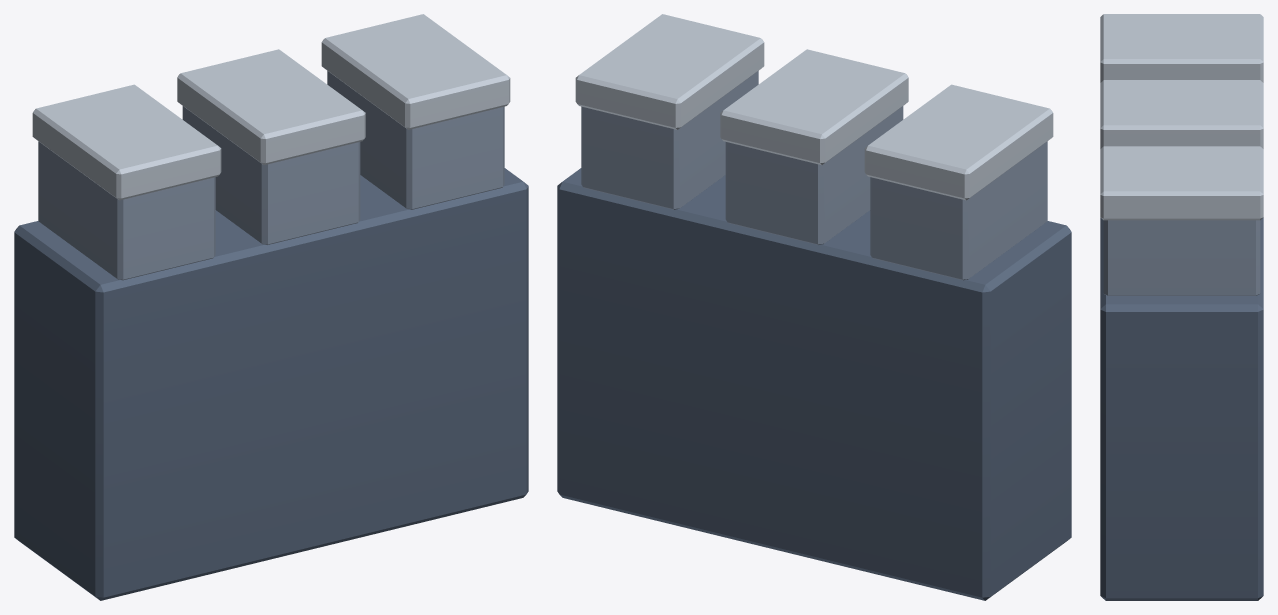
Rendered from ruin_wall_arctic.glb.
3 views of the same model, side by side, from view 1: azimuth 30°, elevation 25°; view 2: azimuth 150°, elevation 25°; view 3: azimuth 270°, elevation 25° (orthographic). The views are drawn at different scales.
Visible parts, largest first — view 1: ruin_wall_arctic; view 2: ruin_wall_arctic; view 3: ruin_wall_arctic.
Part boxes in pixels (<box>): ruin_wall_arctic: <box>14,14,528,600</box>; ruin_wall_arctic: <box>557,14,1071,600</box>; ruin_wall_arctic: <box>1100,14,1263,600</box>.
Size of the model in its own units: 1.32 by 1.25 by 0.46.
